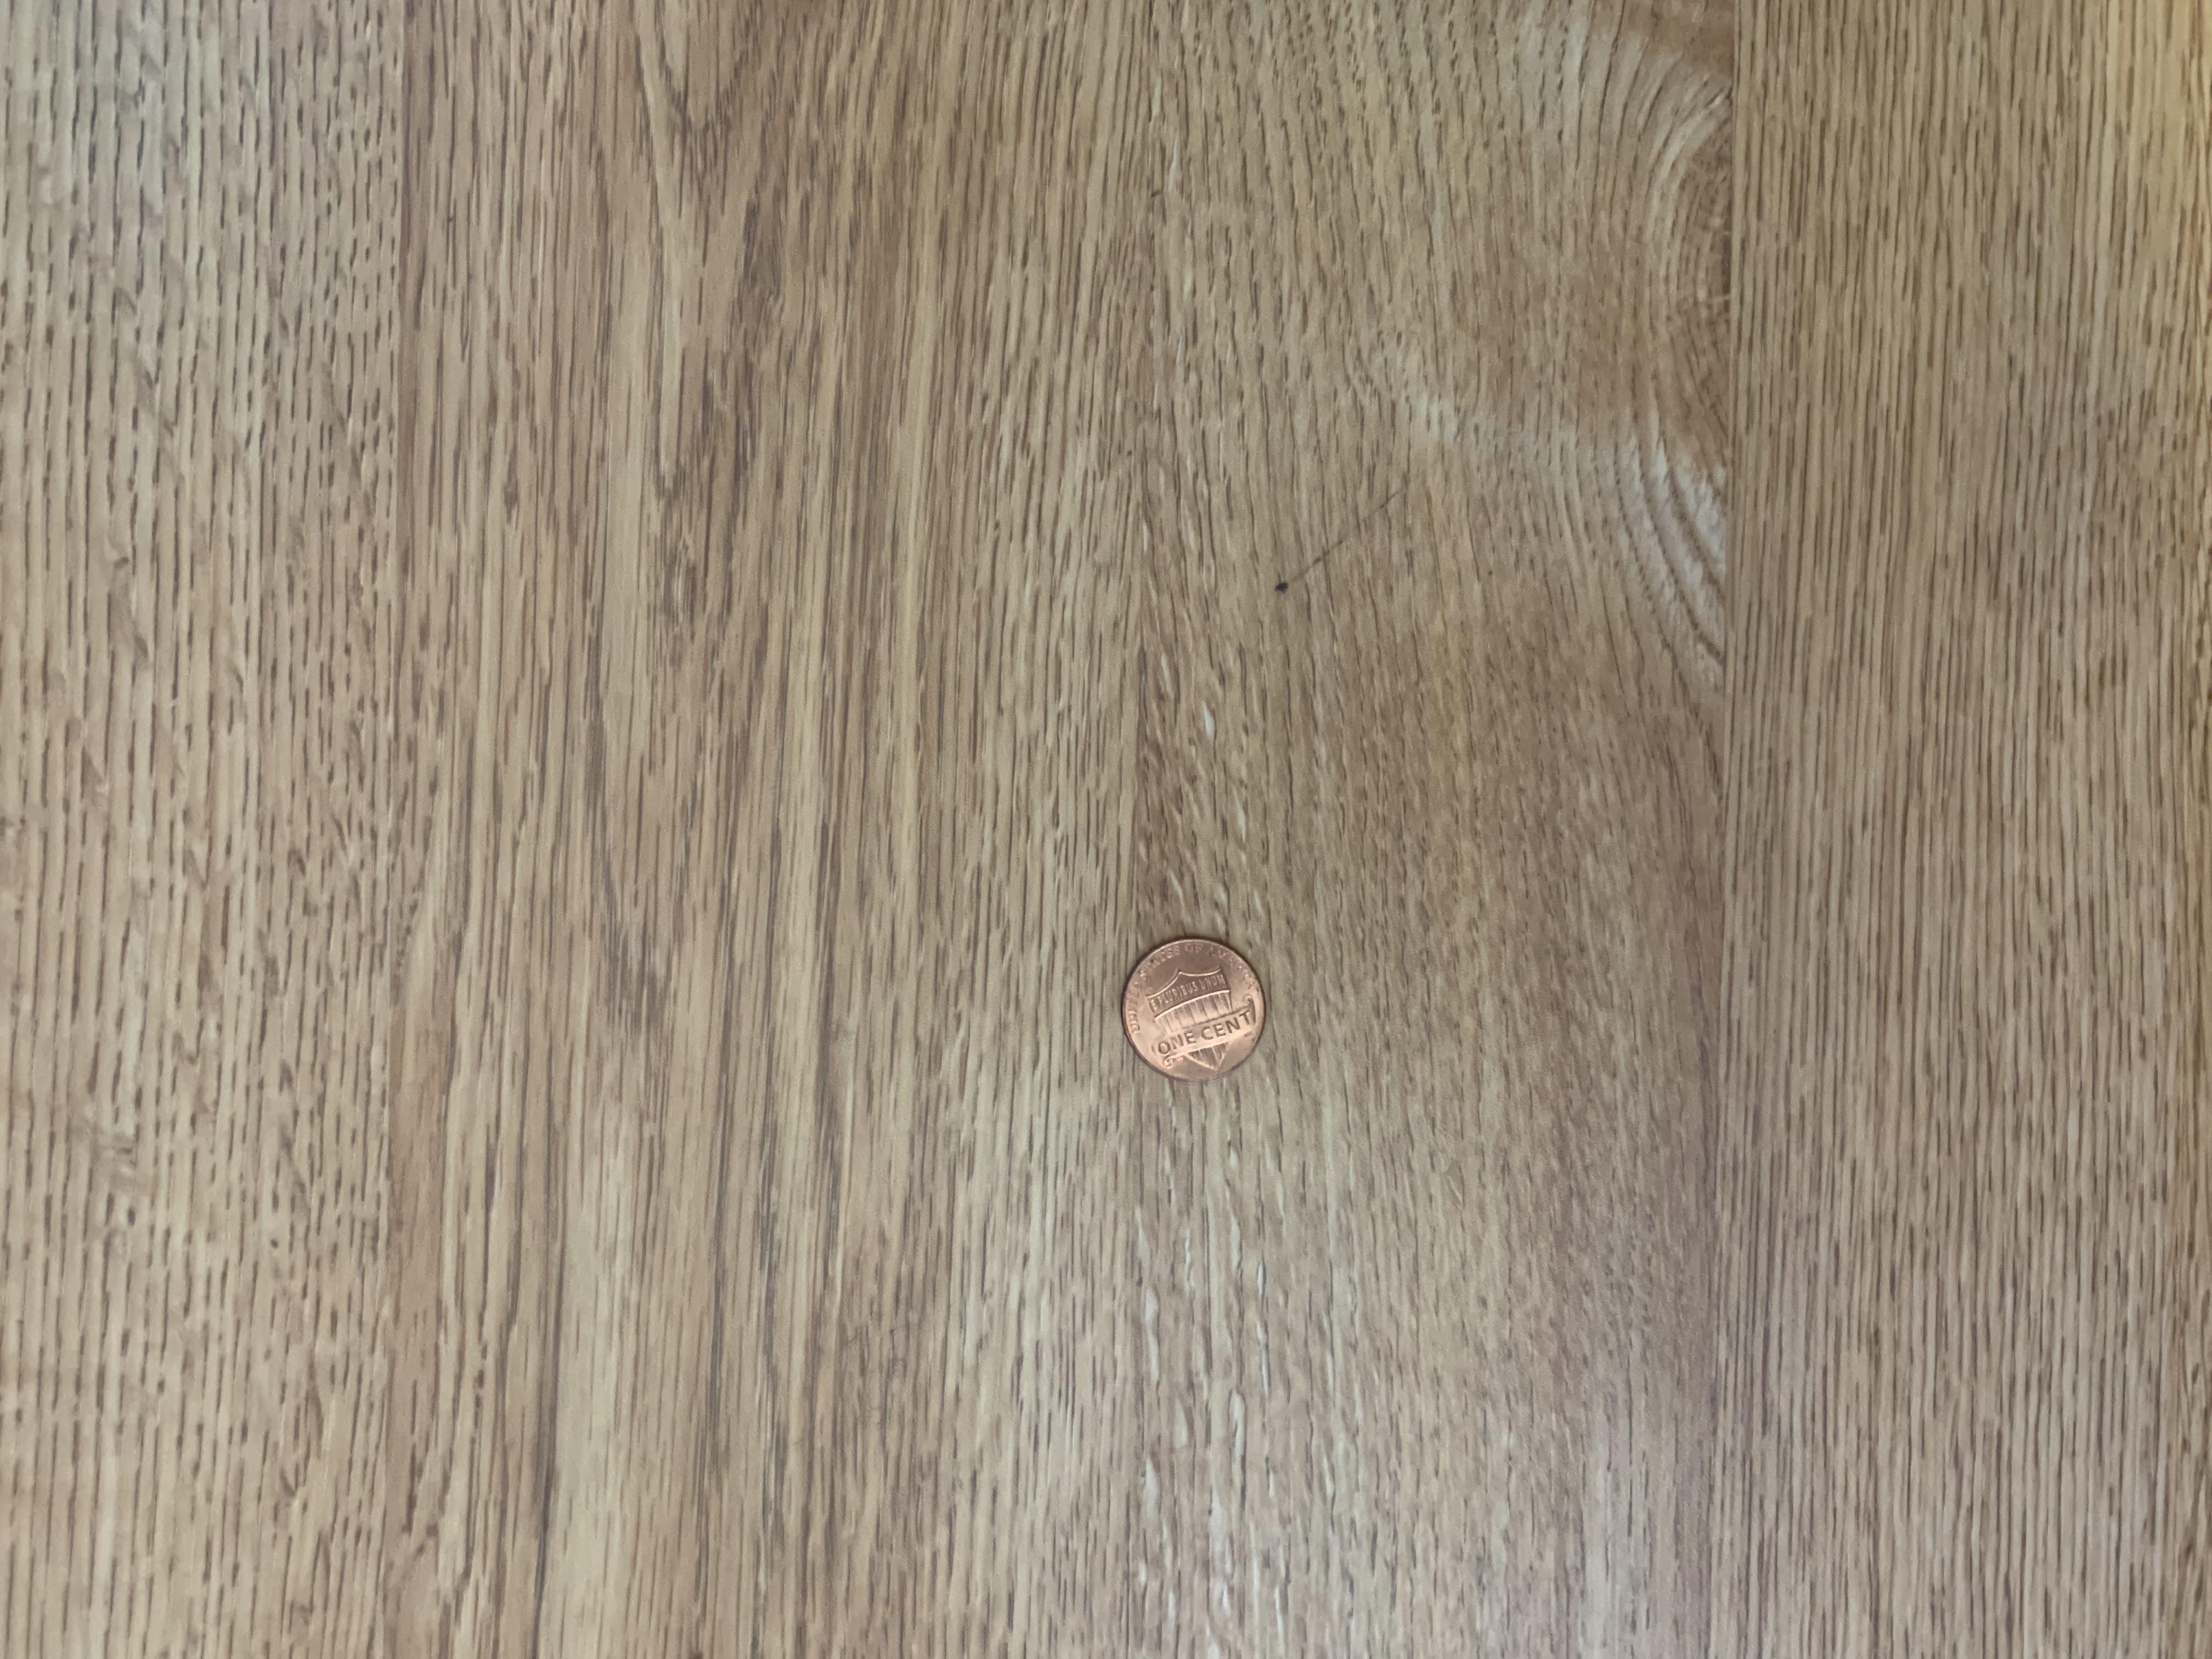Penny: (1113, 934, 1270, 1086)
